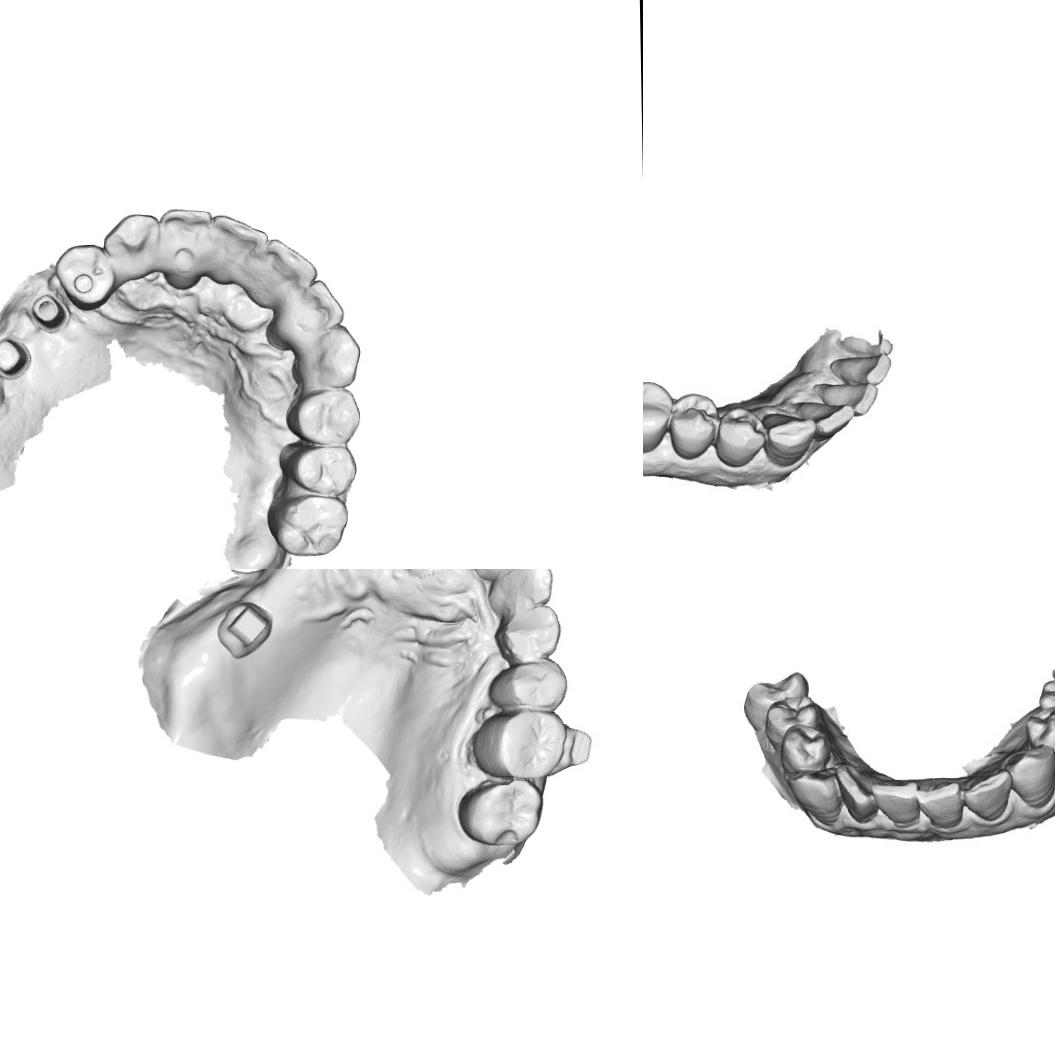abutment: (28, 292, 67, 334), (0, 333, 34, 380)
canine: (289, 321, 362, 390), (101, 209, 164, 285), (490, 603, 564, 666), (788, 766, 842, 830), (1005, 744, 1055, 810), (764, 410, 812, 469)
incisor: (270, 278, 347, 344), (208, 212, 271, 282), (254, 236, 322, 300), (158, 206, 215, 278), (483, 569, 555, 617), (962, 768, 1014, 822), (870, 775, 921, 830), (914, 779, 963, 829), (836, 762, 873, 824), (837, 348, 893, 386), (803, 400, 851, 438), (828, 382, 874, 414)
molar: (470, 708, 570, 784), (456, 776, 546, 850), (264, 490, 353, 558), (643, 374, 669, 445)
premolar: (283, 385, 362, 450), (485, 658, 570, 716), (52, 240, 115, 314), (281, 441, 359, 497), (761, 694, 820, 749), (779, 720, 831, 778), (668, 392, 715, 454), (716, 408, 760, 464), (1021, 708, 1055, 767), (1040, 675, 1055, 731)
